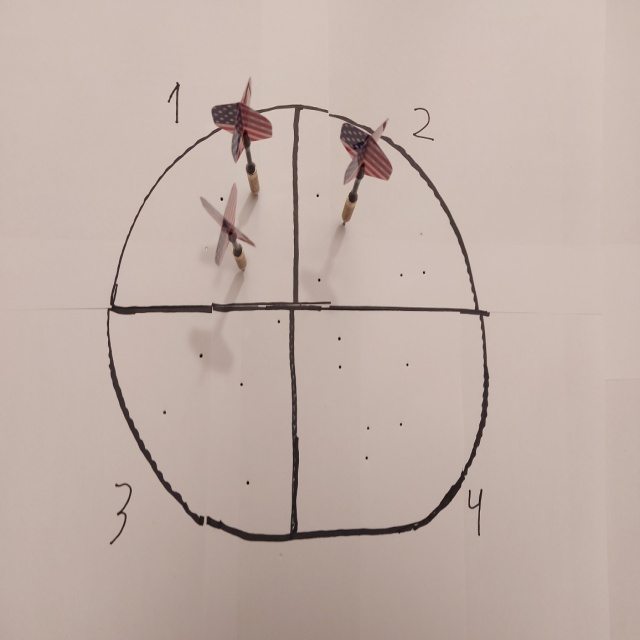Dart: (201, 75, 277, 197), (332, 115, 396, 232), (197, 181, 259, 279)
